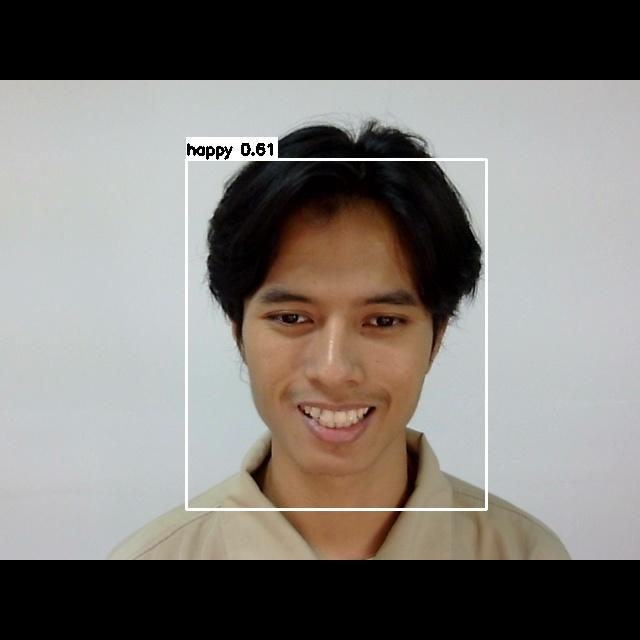Happy: (233, 255, 439, 442)
